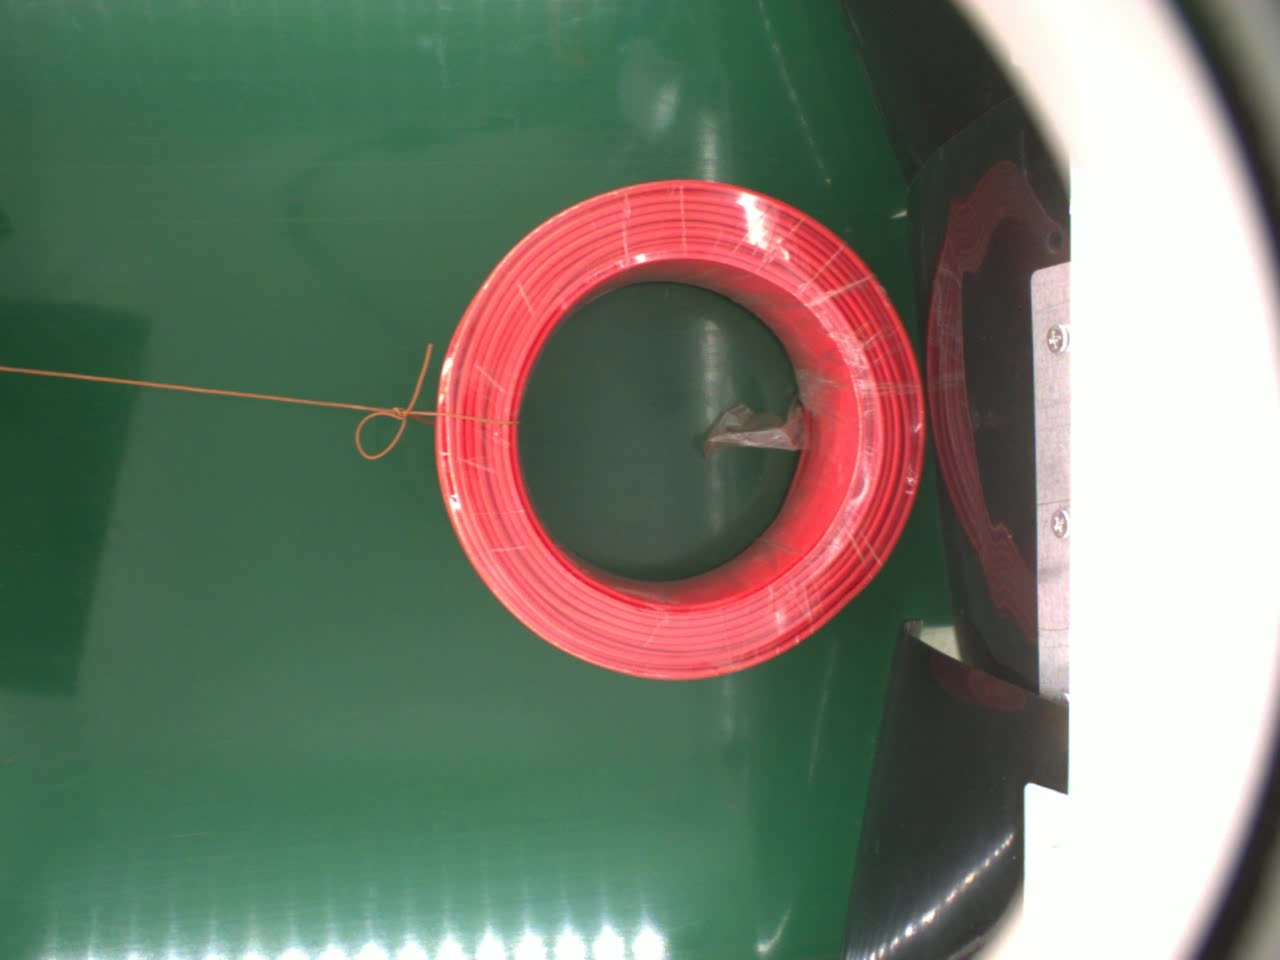red: (428, 177, 928, 685)
